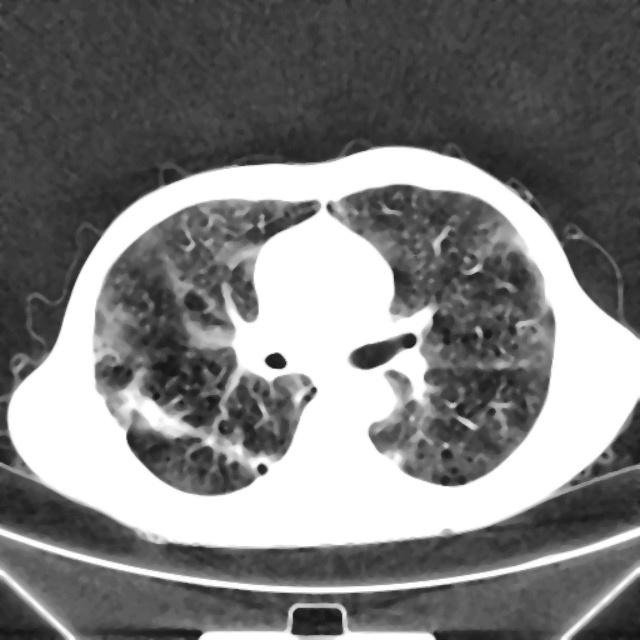covid: (89, 161, 558, 499)
